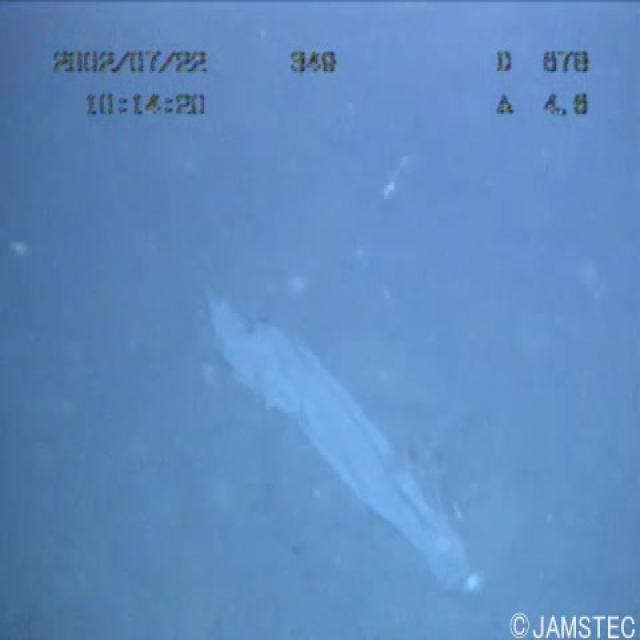plastic: (187, 270, 485, 604)
